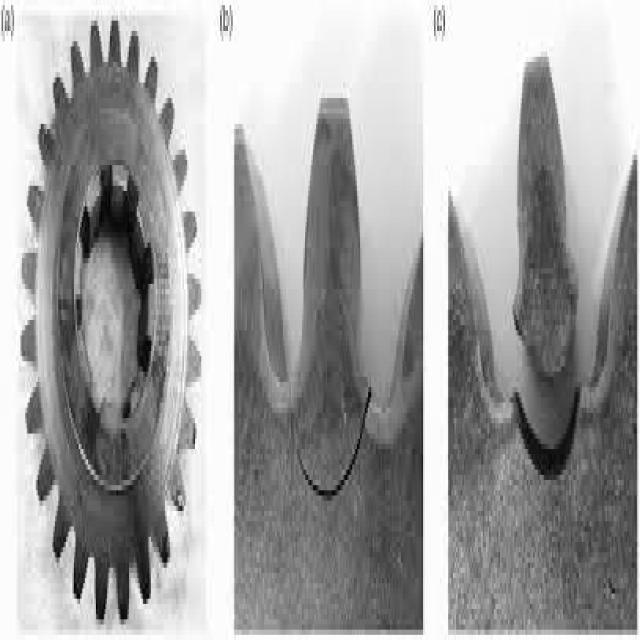Fault-Exist: (286, 53, 395, 557), (502, 42, 595, 574)
No Fault: (1, 11, 227, 633)
